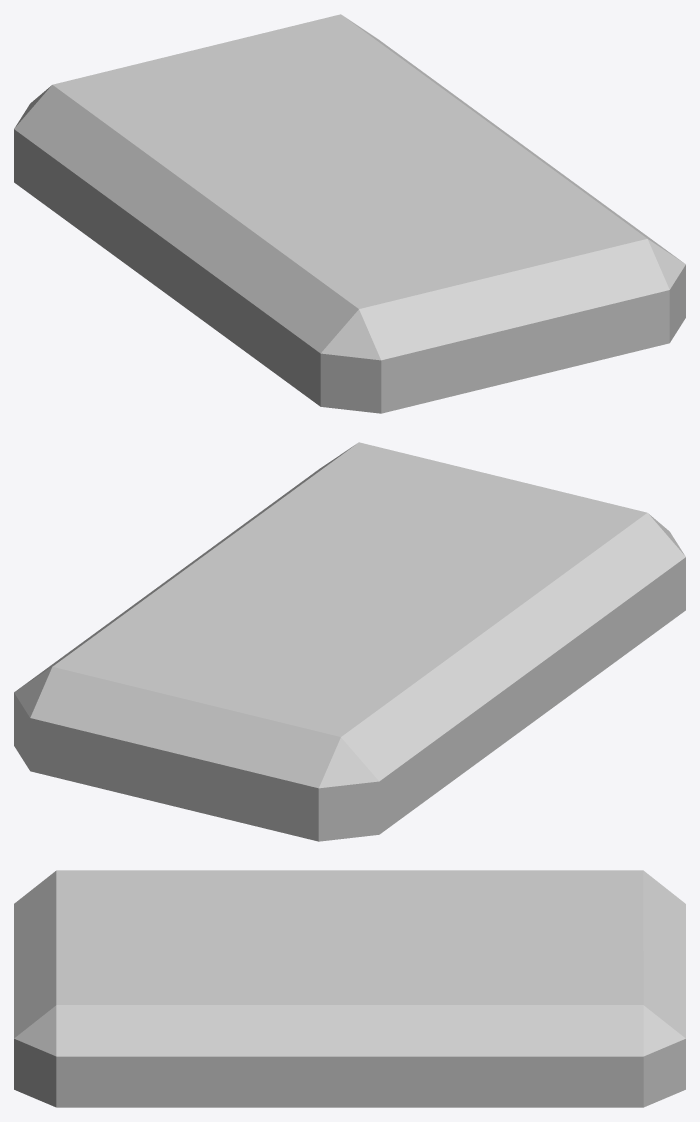
Rendered from tile02_s01.FBX.
3 views of the same model, one above another, from view 1: azimuth 30°, elevation 25°; view 2: azimuth 150°, elevation 25°; view 3: azimuth 270°, elevation 25° (orthographic). The views are drawn at different scales.
Visible parts, largest first — view 1: tile02_s01; view 2: tile02_s01; view 3: tile02_s01.
Part boxes in pixels (<box>): tile02_s01: <box>14,14,685,413</box>; tile02_s01: <box>14,442,685,841</box>; tile02_s01: <box>14,870,685,1107</box>.
Size of the model in its own units: 114 by 190 by 26.36.
1 material, 1 textured.
